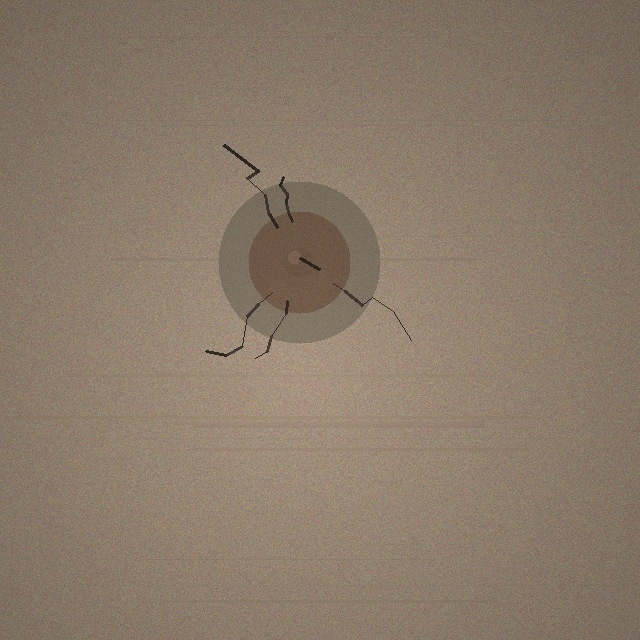crack: (218, 181, 380, 343)
